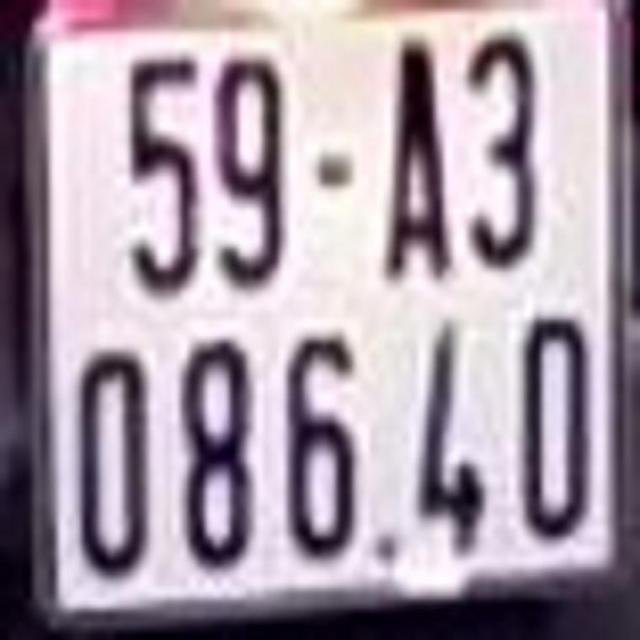0: (520, 311, 588, 536), (82, 349, 146, 578)
3: (468, 34, 535, 268)
4: (417, 320, 487, 558)
5: (126, 51, 206, 287)
6: (284, 328, 359, 554)
8: (178, 340, 251, 562)
9: (216, 50, 283, 289)
A: (384, 40, 456, 275)
